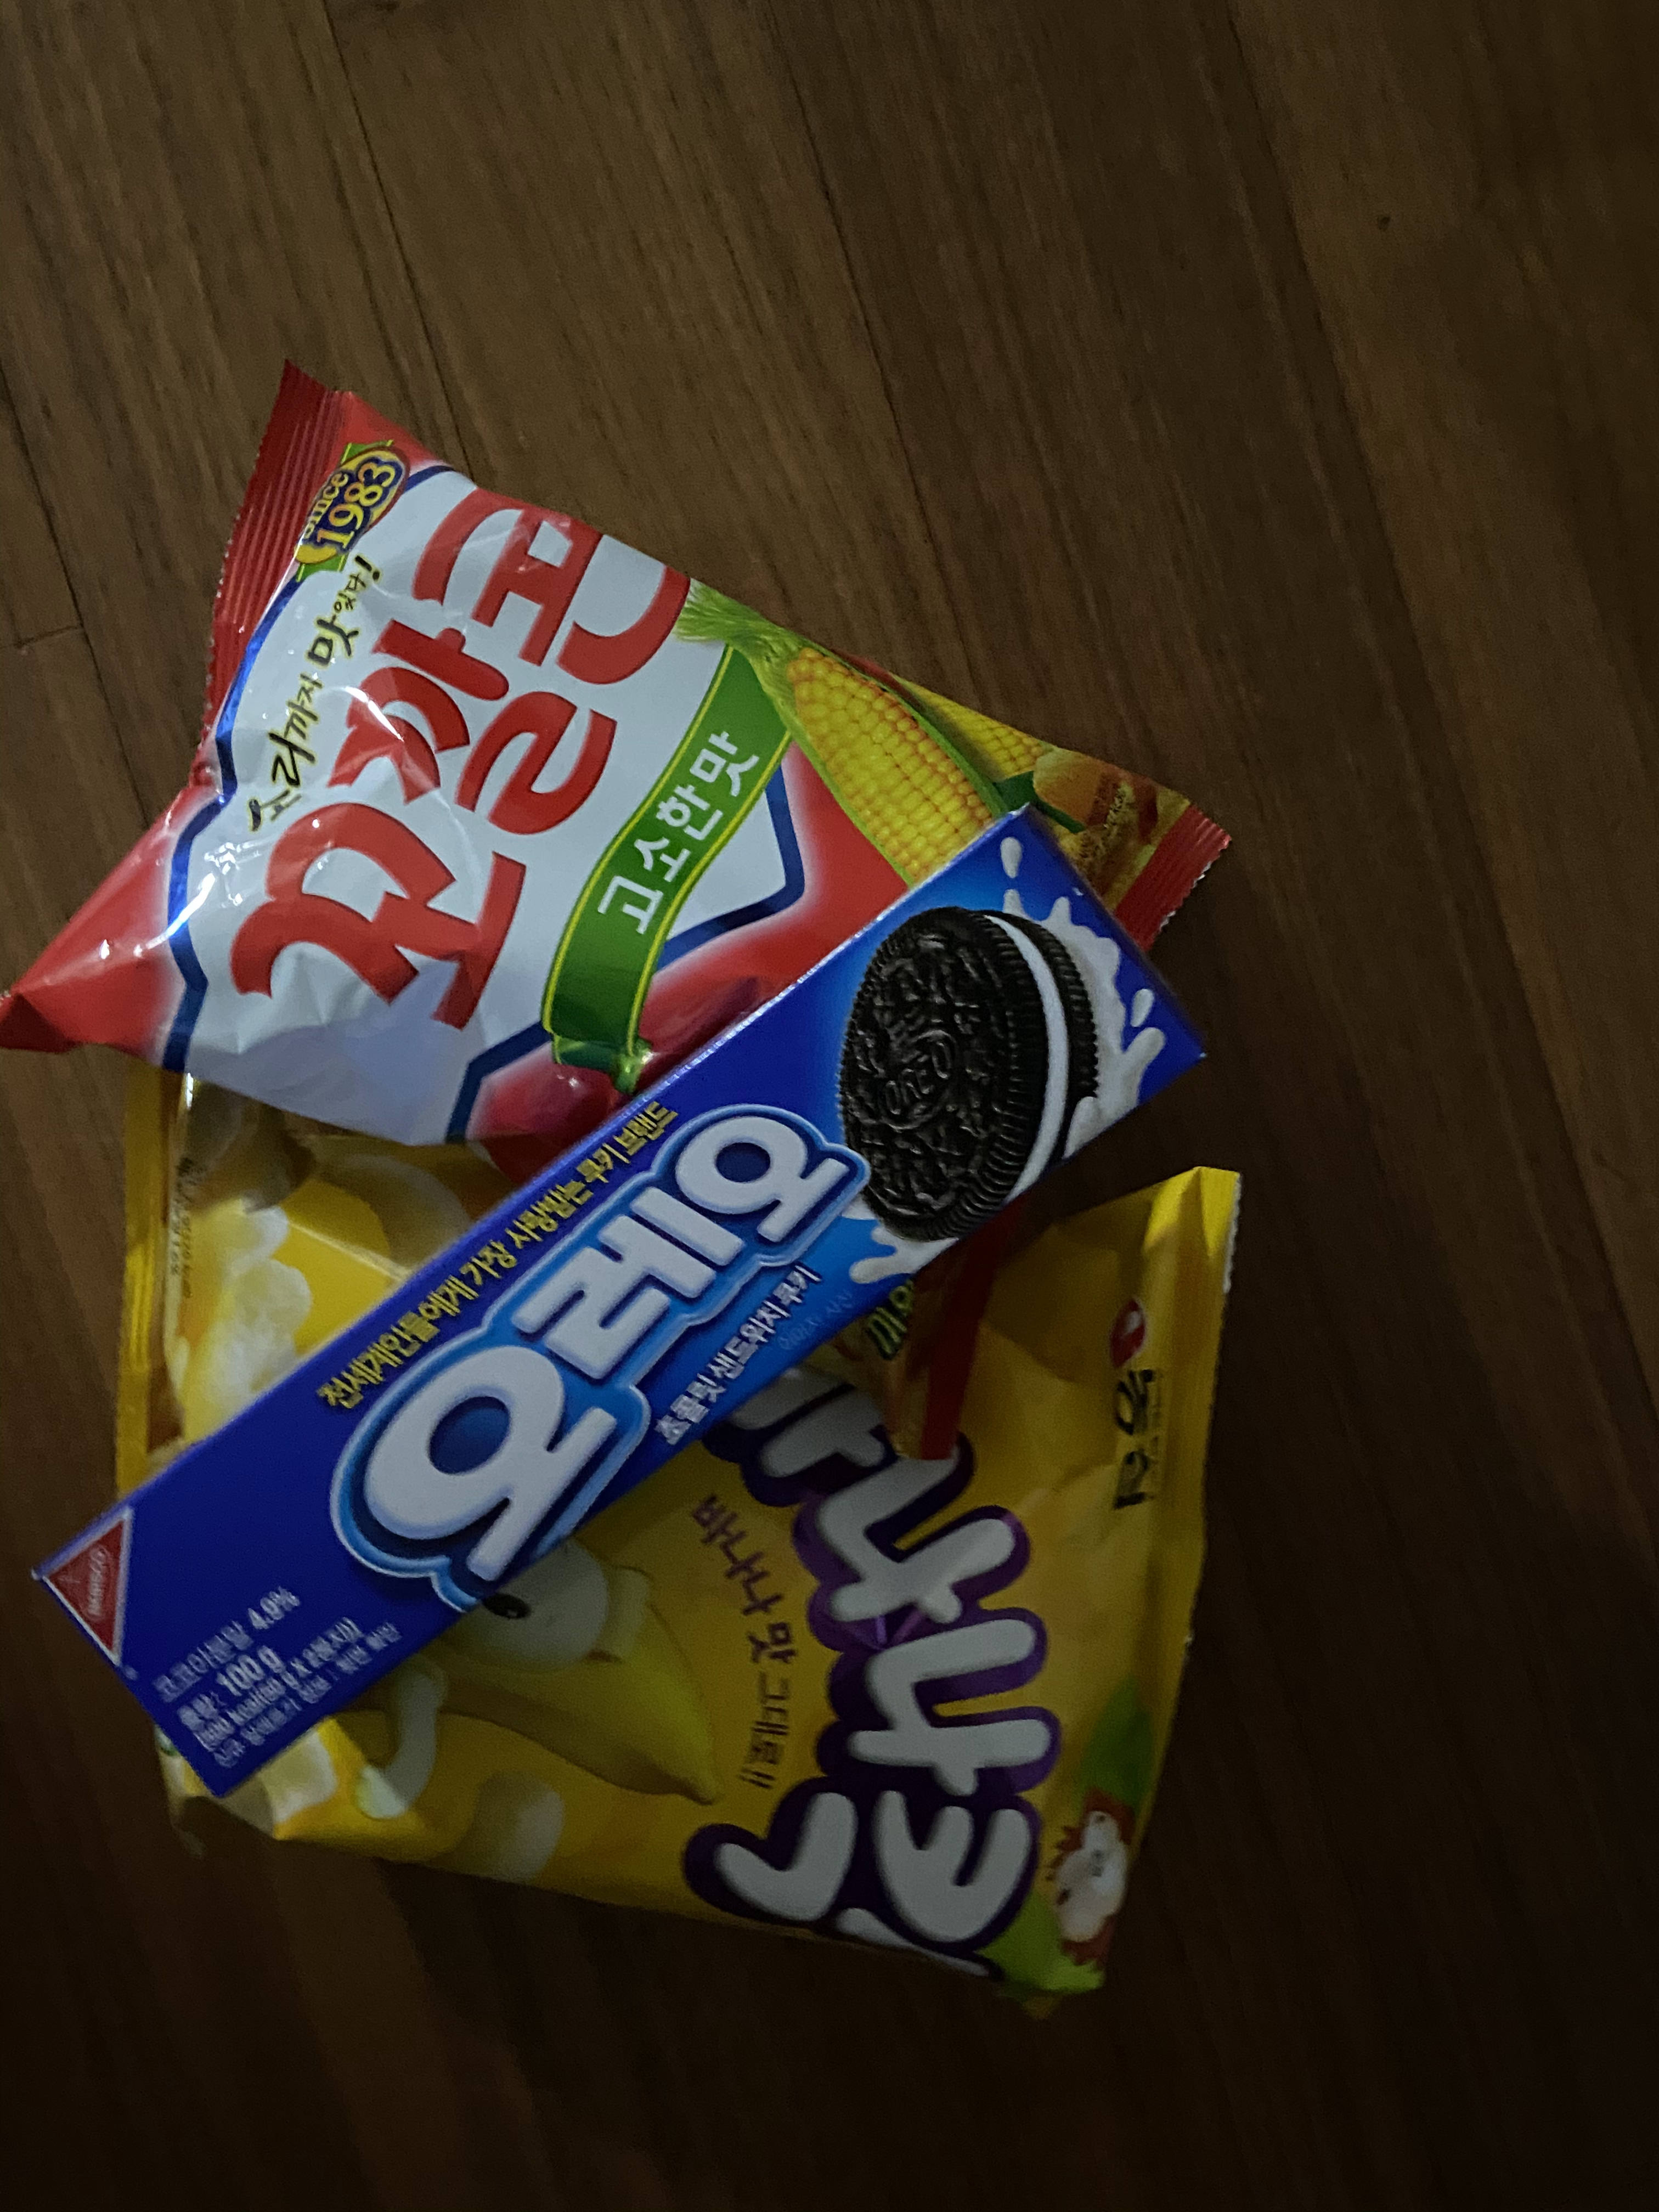banana: (94, 1076, 1255, 2027)
ggoggalcon: (0, 352, 1251, 1479)
oreo: (5, 775, 1222, 1810)
